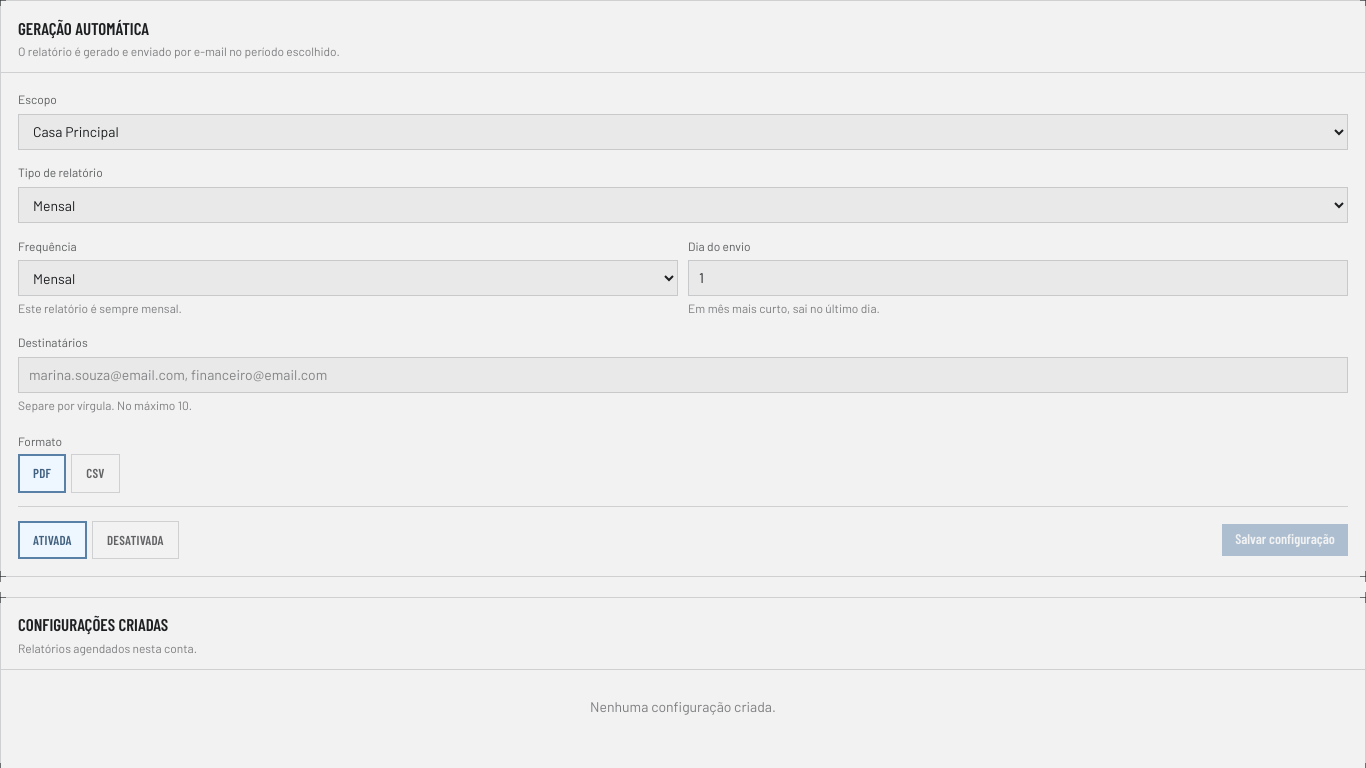
it: ReportSchedulesPage — formulário de criação › o dia muda de natureza conforme a frequência
Select "Consumo" in the dropdown labelled "Tipo de relatório" at {"x": 683, "y": 205}, box [18, 187, 1348, 223]
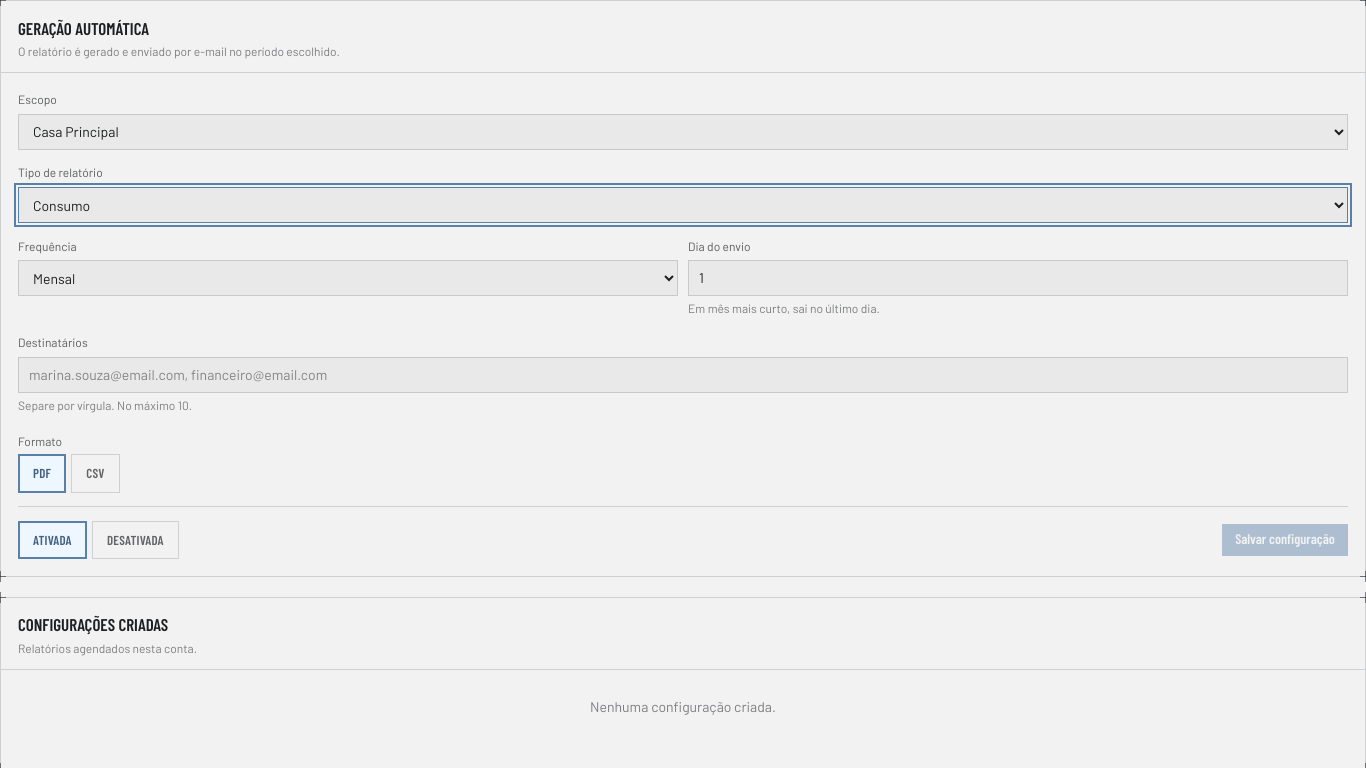
Select "Semanal" in the dropdown labelled "Frequência" at {"x": 348, "y": 278}, box [18, 260, 678, 296]
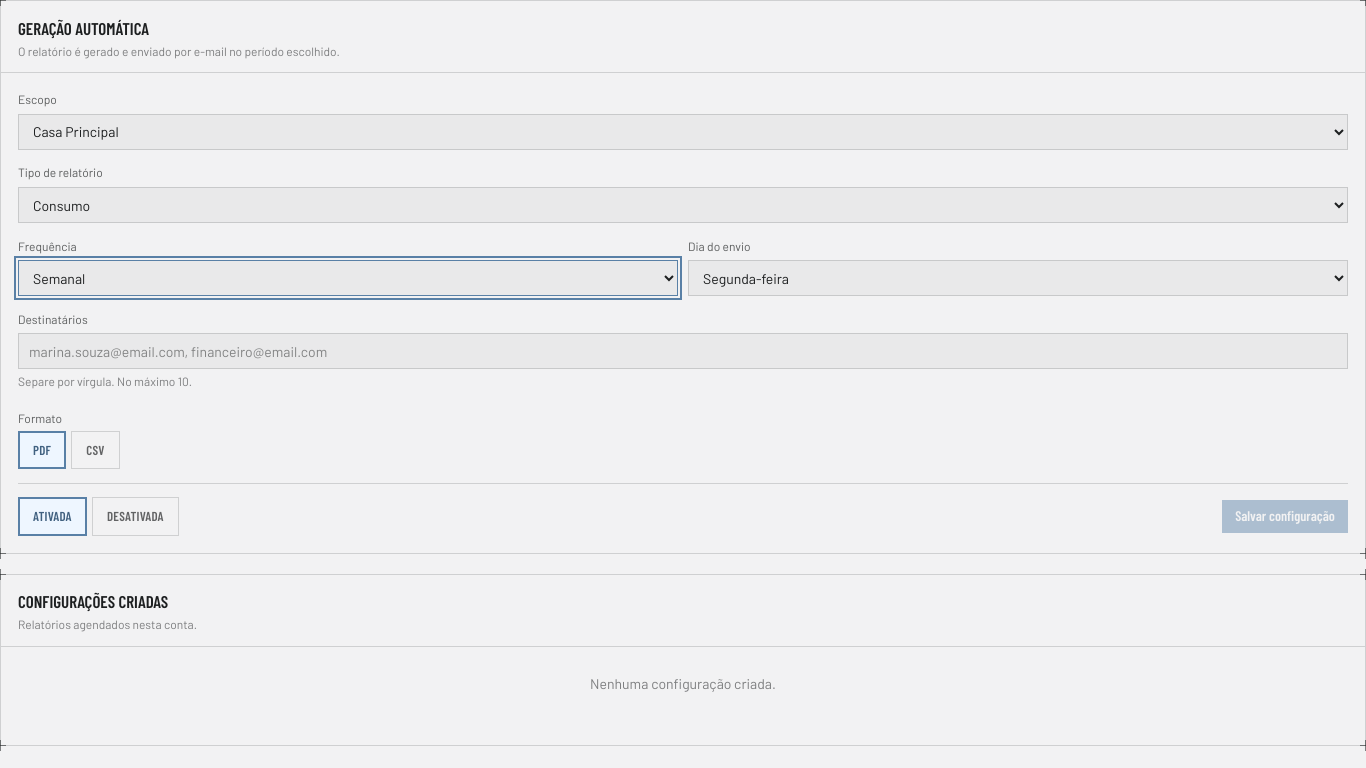
Select "Diária" in the dropdown labelled "Frequência" at {"x": 348, "y": 278}, box [18, 260, 678, 296]
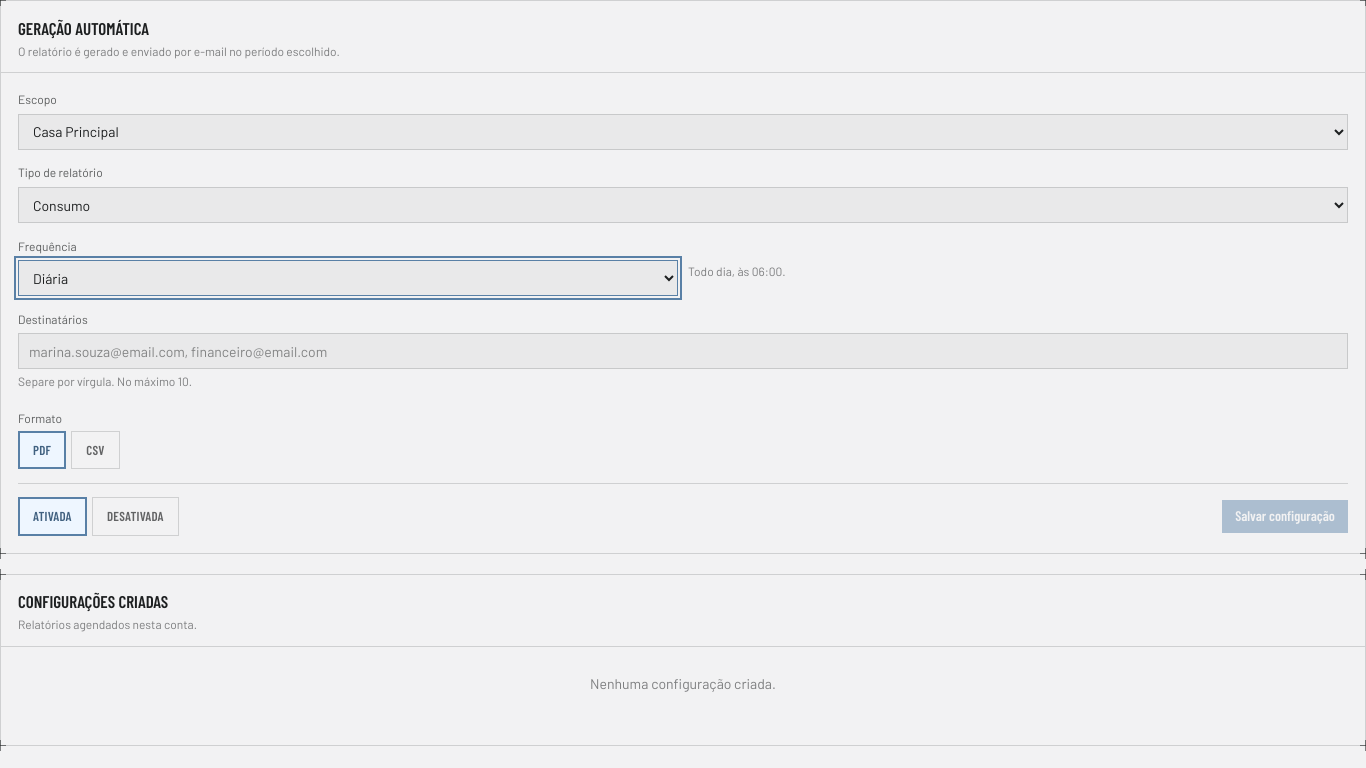
Now the label labelled "Dia do envio" is gone
Now the text "Todo dia, às 06:00." is shown, box [688, 264, 786, 278]
Select "Anual" in the dropdown labelled "Frequência" at {"x": 348, "y": 278}, box [18, 260, 678, 296]
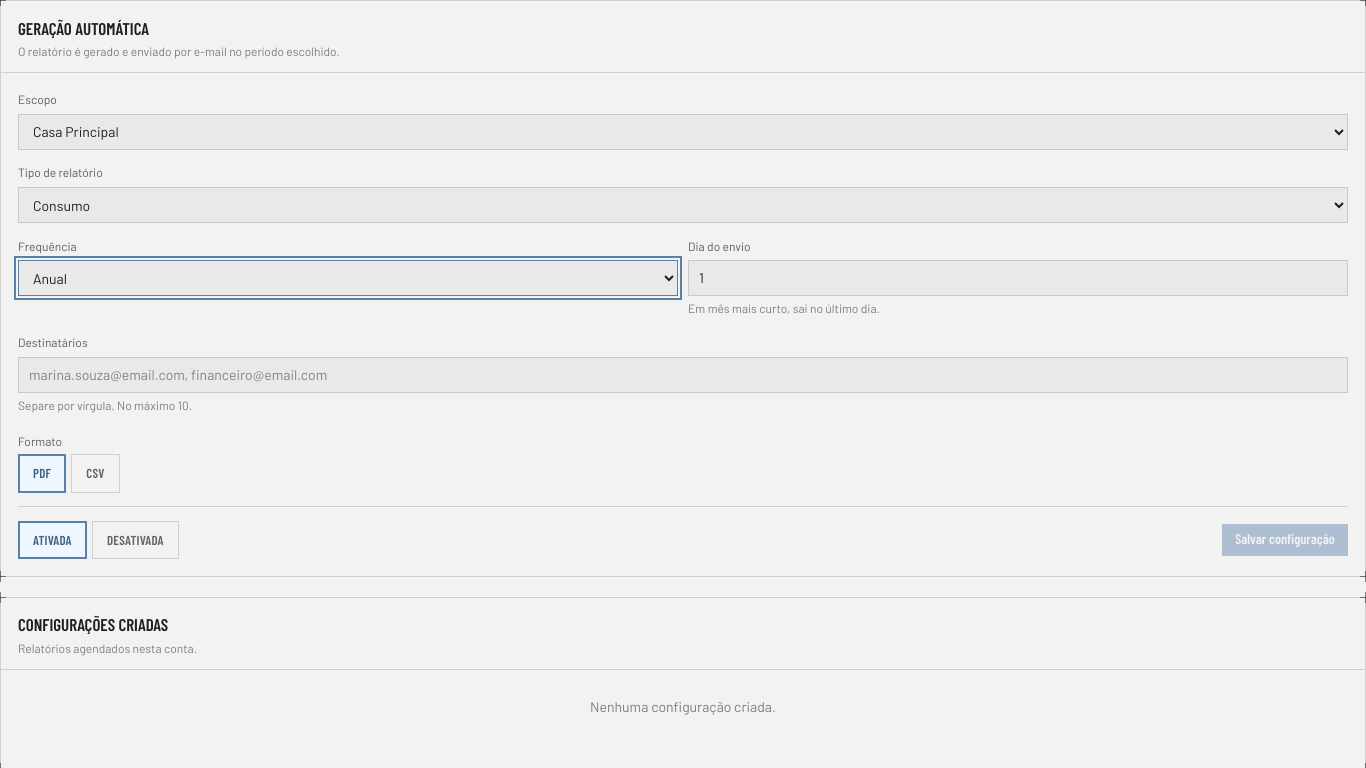
Now the number field labelled "Dia do envio" holds "1", box [688, 260, 1348, 296]
